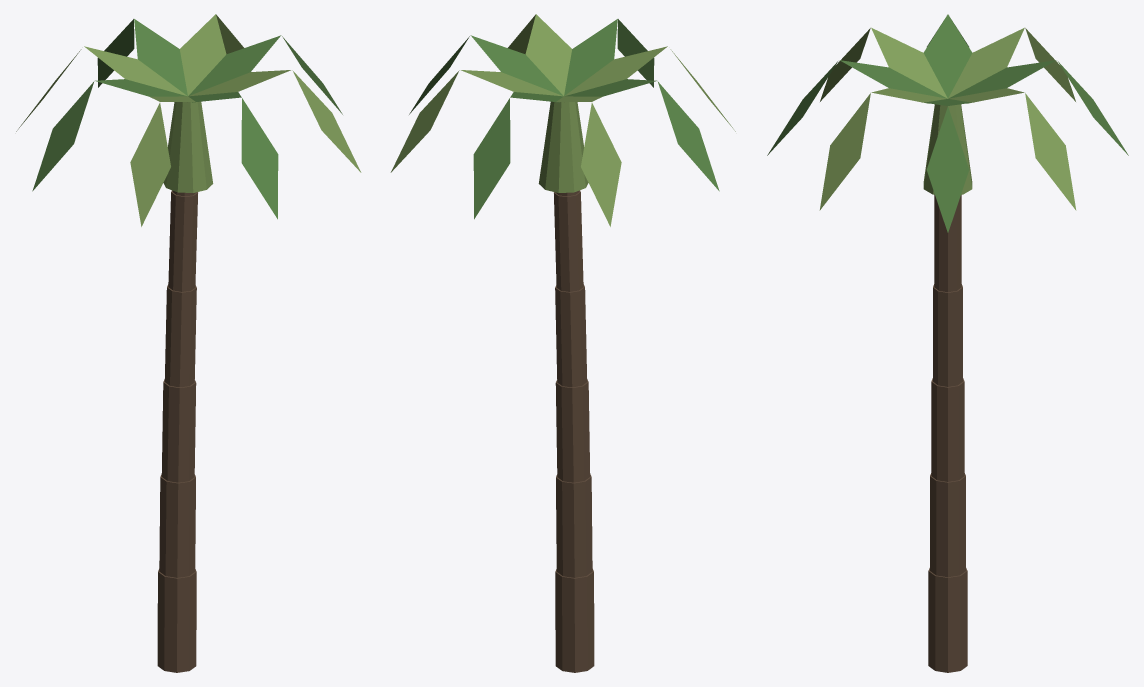
Rendered from nature-royal-palm.lod0.glb.
The picture shows the model from 3 angles, left to right: view 1: azimuth 30°, elevation 25°; view 2: azimuth 150°, elevation 25°; view 3: azimuth 270°, elevation 25°; orthographic projection.
Visible parts, largest first — view 1: nature-royal-palm__body; view 2: nature-royal-palm__body; view 3: nature-royal-palm__body.
Part boxes in pixels (<box>): nature-royal-palm__body: <box>16,14,361,672</box>; nature-royal-palm__body: <box>390,14,735,672</box>; nature-royal-palm__body: <box>767,14,1128,672</box>.
Bounding box in the file's own units: 3.4 × 6.3 × 3.4.
